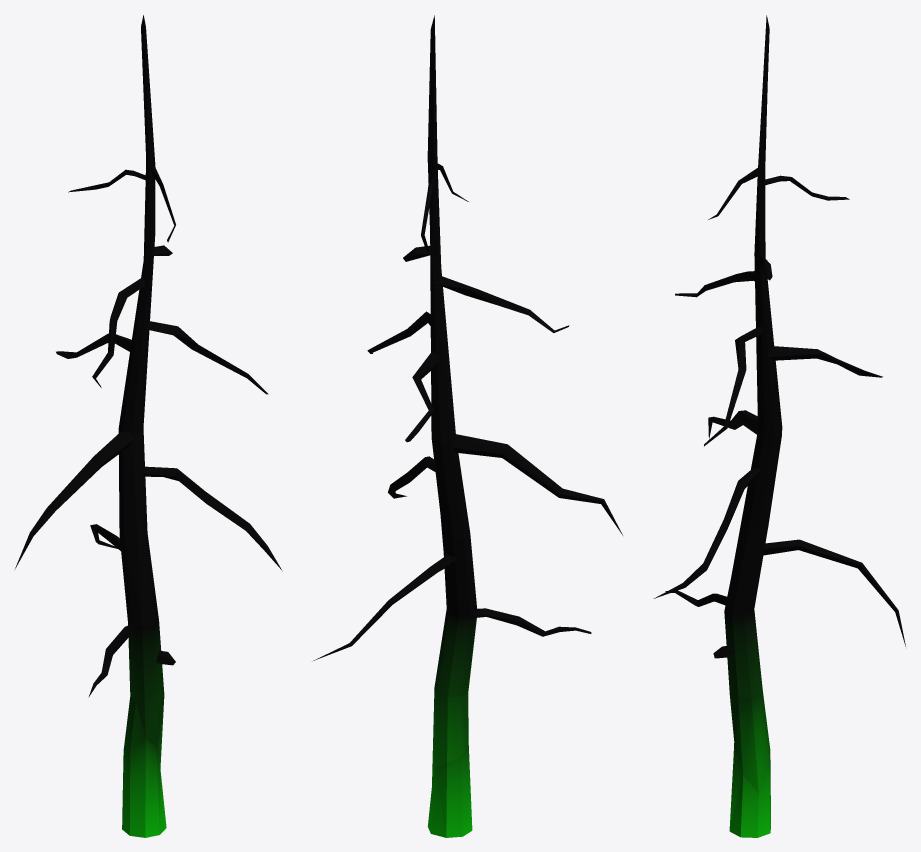
File: SM_Collision_Pine02.fbx
3 renders of one model, left to right at view 1: azimuth 30°, elevation 25°; view 2: azimuth 150°, elevation 25°; view 3: azimuth 270°, elevation 25°, orthographic.
Visible parts, largest first — view 1: SM_Collision_Pine02; view 2: SM_Collision_Pine02; view 3: SM_Collision_Pine02.
Part boxes in pixels (x1,y1,x2,y2): SM_Collision_Pine02: [14, 15, 282, 837]; SM_Collision_Pine02: [313, 15, 622, 837]; SM_Collision_Pine02: [653, 15, 905, 837].
Bounding box in the file's own units: 588 × 1797 × 506.
